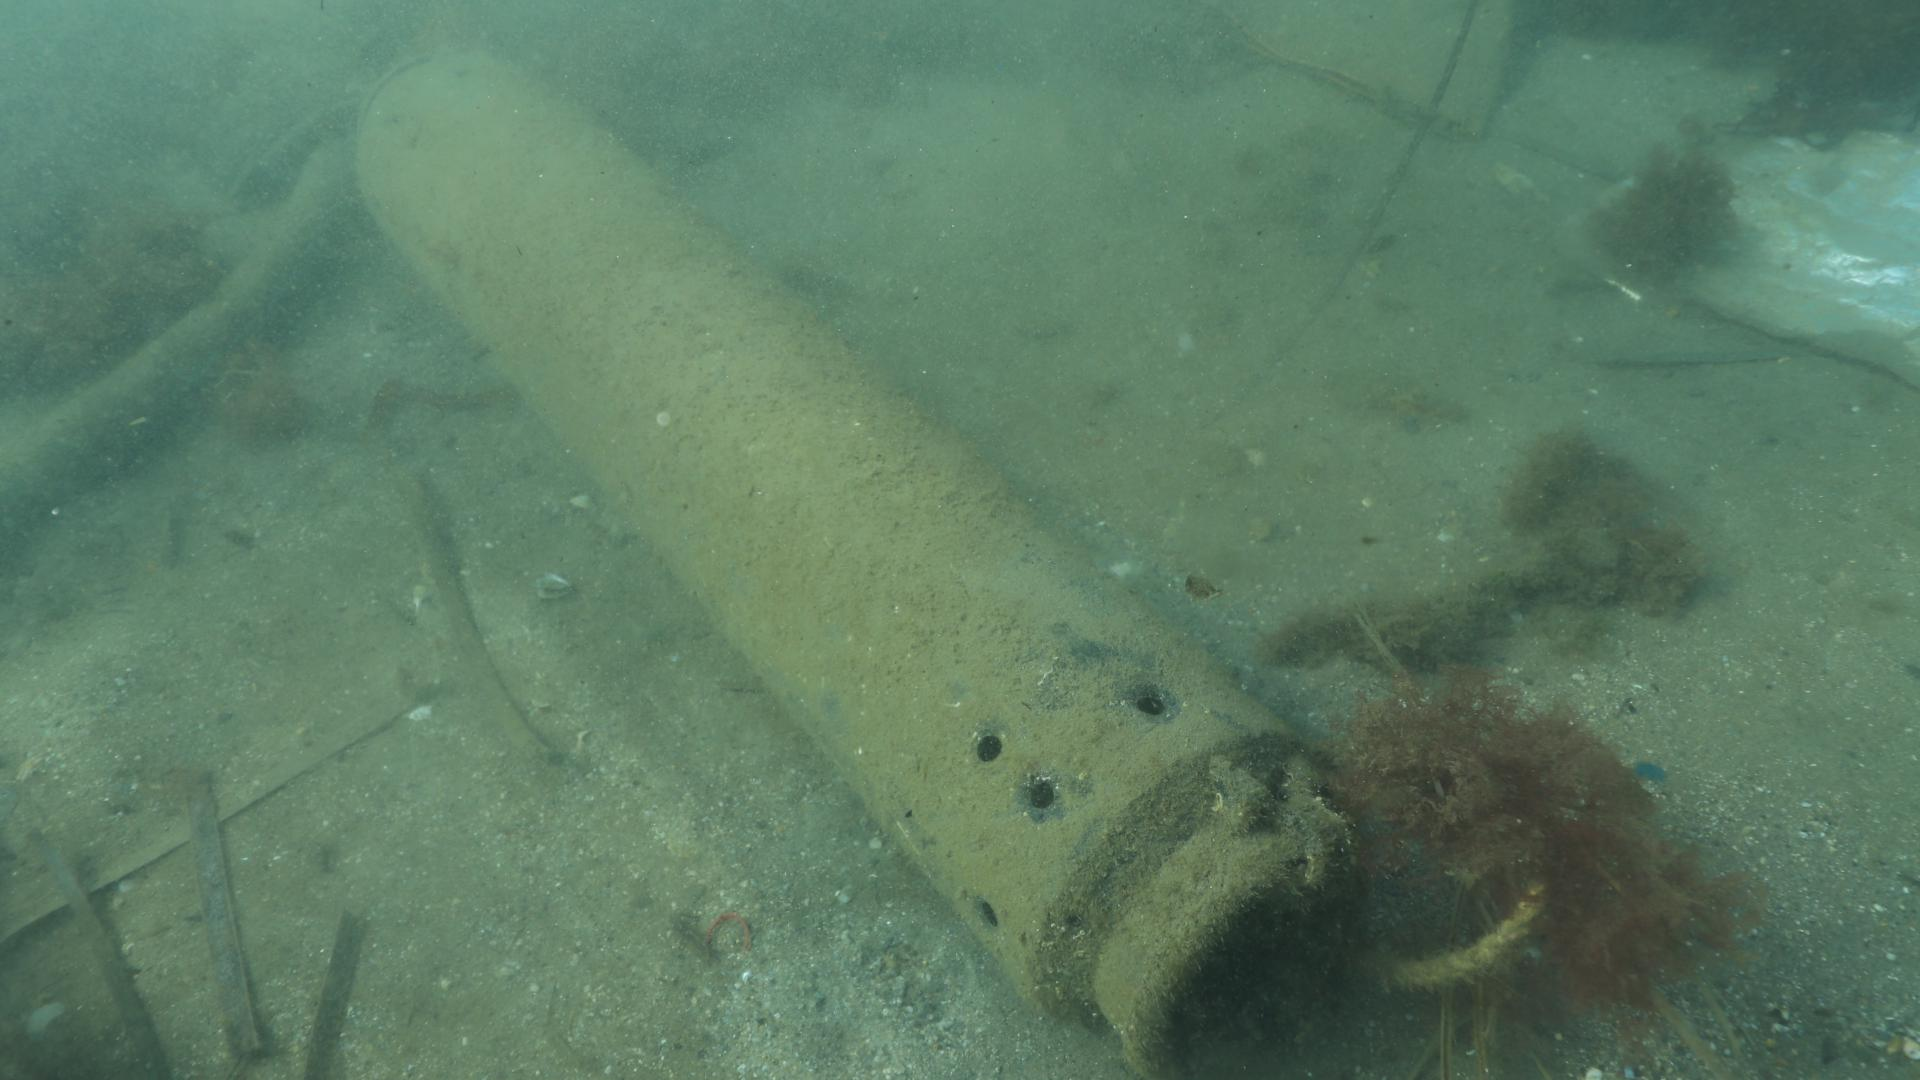eel fish trap: (357, 33, 1350, 1080)
rope: (1396, 877, 1549, 984)
